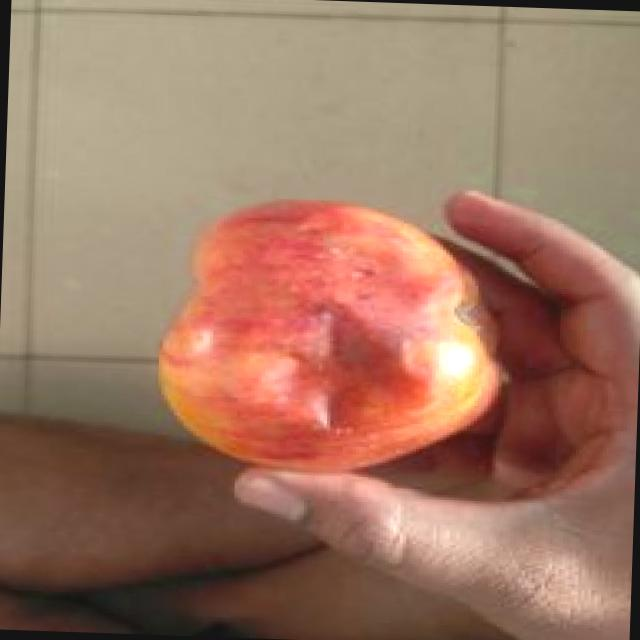Rotten_Apple: (53, 166, 545, 543)
